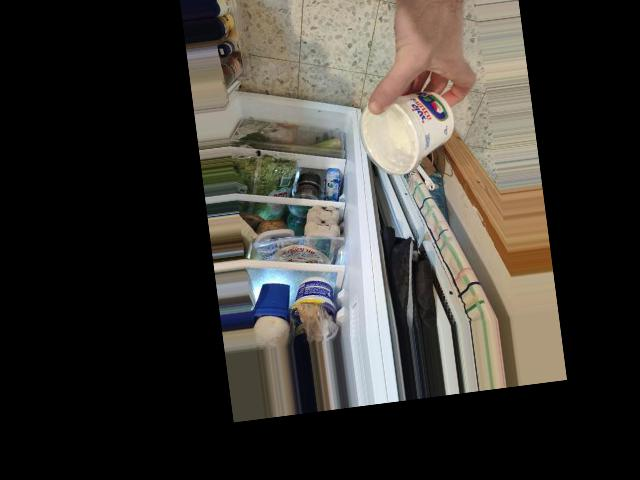cotage: (368, 90, 450, 182)
